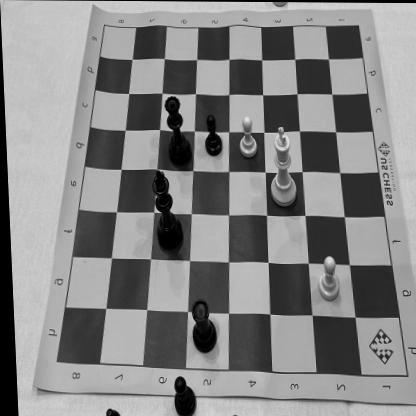black-king: (149, 167, 184, 252)
black-pawn: (200, 111, 225, 157)
black-queen: (160, 92, 193, 172)
black-rook: (186, 294, 216, 355)
white-king: (265, 124, 302, 210)
white-pawn: (310, 254, 342, 302), (235, 115, 260, 159)
